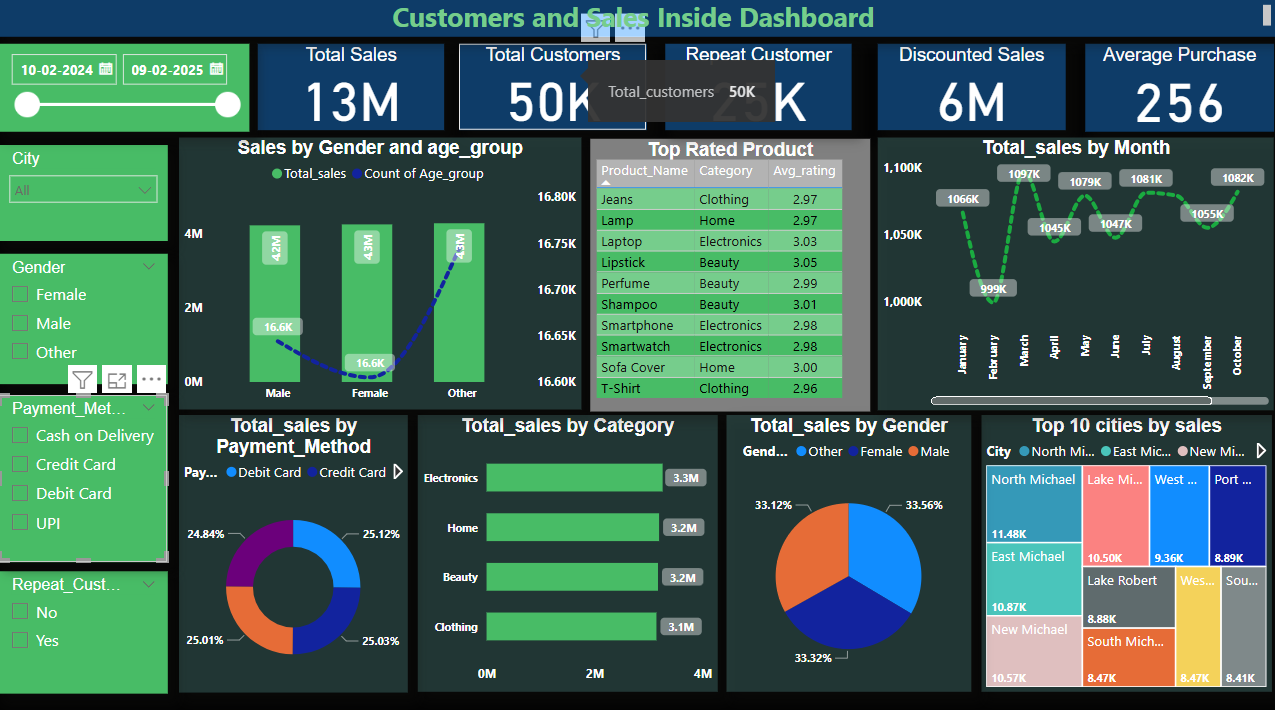

Layout of this report page (visuals, bound fields, positions):
{"tool":"powerbi","page":{"name":"Page 1","canvas":[1280,720],"ordinal":0},"visuals":[{"type":"card","title":"Total Sales","fields":{"Values":["Task data.Total_sales"]},"box":[258.9,44.3,186.7,86.7],"z":0},{"type":"card","title":"Total Customers","fields":{"Values":["Task data.Total_customers"]},"box":[460,43.2,187.8,86.7],"z":1000},{"type":"card","title":"Average Purchase","fields":{"Values":["Task data.Avg_purchase"]},"box":[1086.7,43.2,188.9,87.8],"z":2000},{"type":"card","title":"Discounted Sales","fields":{"Values":["Task data.Discounted Sales"]},"box":[878.9,44.3,187.8,86.7],"z":3000},{"type":"textbox","box":[0,0,1276.7,36.7],"z":4000},{"type":"barChart","fields":{"Category":["Task data.Category"],"Y":["Task data.Total_sales"]},"box":[418.9,415.4,300,276.7],"z":5000},{"type":"donutChart","fields":{"Category":["Task data.Payment_Method"],"Y":["Task data.Total_sales"]},"box":[180,415.4,228.9,277.8],"z":6000},{"type":"lineStackedColumnComboChart","title":"Sales by Gender and age_group","fields":{"Category":["Task data.Gender"],"Y":["Task data.Total_sales"],"Y2":["CountNonNull(Task data.Age_group)"]},"box":[180.1,137.5,402.2,272.2],"z":7000},{"type":"treemap","title":"Top 10 cities by sales","fields":{"Group":["Task data.City"],"Values":["Sum(Task data.Purchase_Amount)"]},"box":[982.2,415.4,290,276.7],"z":8000},{"type":"tableEx","title":"Top Rated Product","fields":{"Values":["Task data.Product_Name","Task data.Category","Task data.Avg_rating"]},"box":[591.1,138.4,279.8,272.6],"z":9000},{"type":"slicer","fields":{"Values":["Task data.City"]},"box":[0.1,145.2,168.8,96.2],"z":10000},{"type":"slicer","fields":{"Values":["Task data.Repeat_Customer"]},"box":[0,571.2,168.8,122.5],"z":11000},{"type":"slicer","fields":{"Values":["Task data.Purchase_Date"]},"box":[0,43.3,250,87.8],"z":12000},{"type":"slicer","fields":{"Values":["Task data.Payment_Method"]},"box":[0,395,168.8,167.5],"z":13000},{"type":"card","title":"Repeat Customer","fields":{"Values":["Task data.Repeat_Customers"]},"box":[666.7,43.2,186.7,86.7],"z":14000},{"type":"slicer","fields":{"Values":["Task data.Gender"]},"box":[0,253.3,168.9,130],"z":15000},{"type":"pieChart","fields":{"Y":["Task data.Total_sales"],"Category":["Task data.Gender"]},"box":[727.8,415.4,244.4,276.7],"z":16000},{"type":"lineChart","fields":{"Category":["Task data.Purchase_Date.Variation.Date Hierarchy.Month"],"Y":["Task data.Total_sales"]},"box":[878.9,137.7,396.2,272.5],"z":17000}]}

Visuals, with their boxes in screenshot pixels (x1, y1, x2, y2), scaled from the page's 1280x720 canvas onto the 1275x710 screenshot:
"Total Sales" card: box(258, 44, 444, 129)
"Total Customers" card: box(458, 43, 645, 128)
"Average Purchase" card: box(1082, 43, 1271, 129)
"Discounted Sales" card: box(875, 44, 1063, 129)
textbox: box(0, 0, 1272, 36)
barChart - Task data.Category x Task data.Total_sales: box(417, 410, 716, 682)
donutChart - Task data.Payment_Method x Task data.Total_sales: box(179, 410, 407, 684)
"Sales by Gender and age_group" lineStackedColumnComboChart: box(179, 136, 580, 404)
"Top 10 cities by sales" treemap: box(978, 410, 1267, 682)
"Top Rated Product" tableEx: box(589, 136, 867, 405)
slicer - Task data.City: box(0, 143, 168, 238)
slicer - Task data.Repeat_Customer: box(0, 563, 168, 684)
slicer - Task data.Purchase_Date: box(0, 43, 249, 129)
slicer - Task data.Payment_Method: box(0, 390, 168, 555)
"Repeat Customer" card: box(664, 43, 850, 128)
slicer - Task data.Gender: box(0, 250, 168, 378)
pieChart - Task data.Total_sales x Task data.Gender: box(725, 410, 968, 682)
lineChart - Task data.Purchase_Date.Variation.Date Hierarchy.Month x Task data.Total_sales: box(875, 136, 1270, 405)
